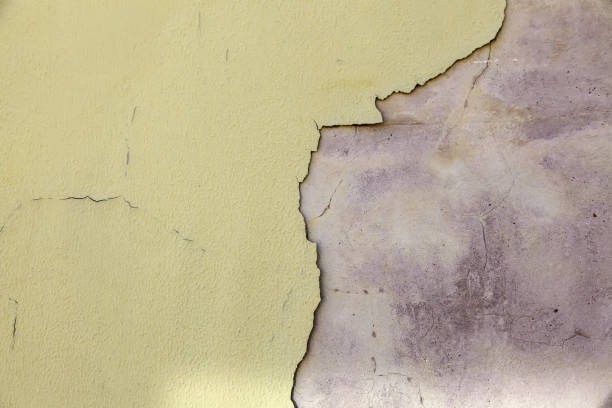wall_peeling: (292, 0, 612, 408)
